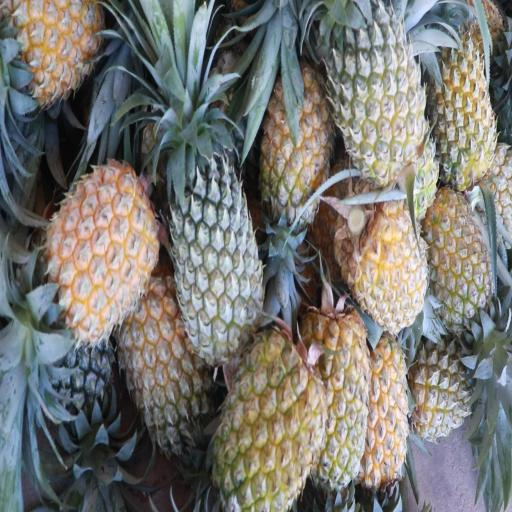------------------------------: (333, 6, 421, 172), (125, 279, 215, 438), (435, 26, 499, 182), (426, 188, 494, 321), (412, 331, 488, 440)
Pineapple - v8 v1: (216, 330, 324, 512), (54, 168, 156, 334), (260, 60, 336, 221), (301, 303, 369, 482), (344, 189, 430, 321), (6, 0, 102, 90), (363, 331, 410, 486)
